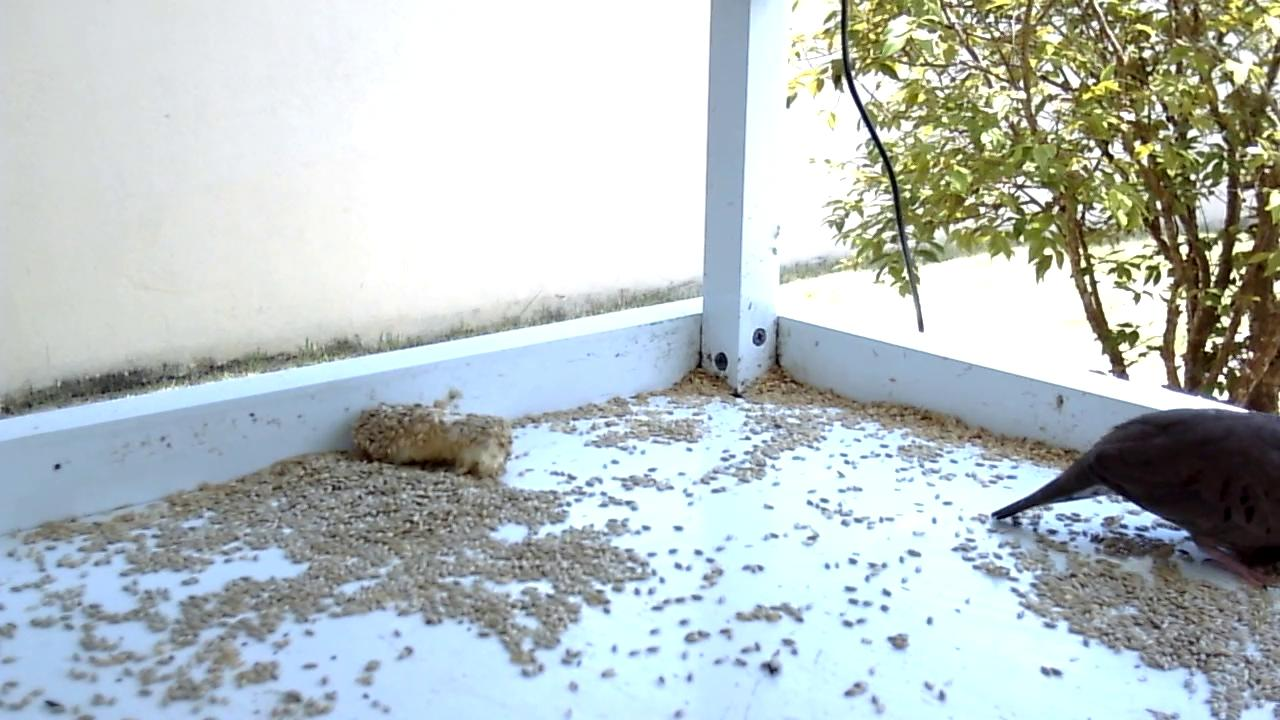rolinha: (989, 406, 1280, 596)
